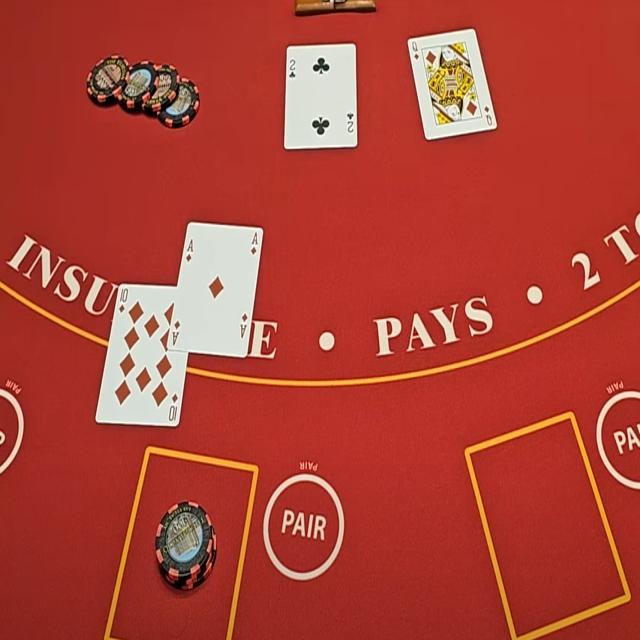10: (120, 286, 129, 304)
2: (288, 57, 298, 71)
A: (186, 235, 195, 254)
Q: (410, 40, 420, 52)
